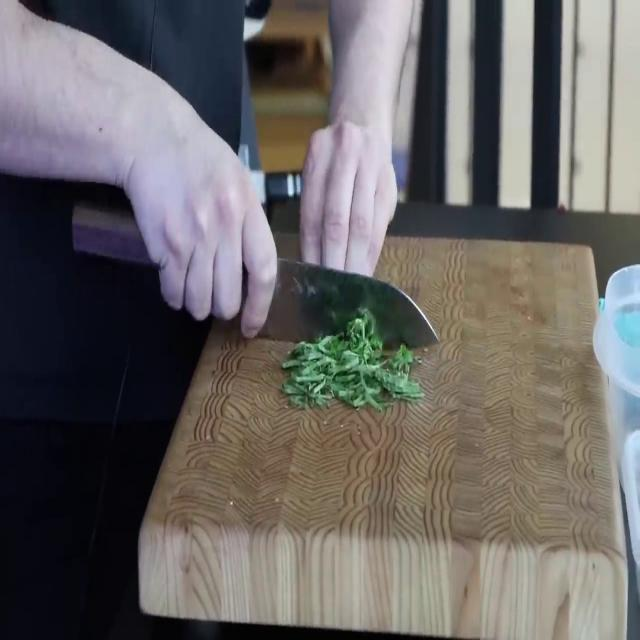Knife: (158, 236, 445, 360)
